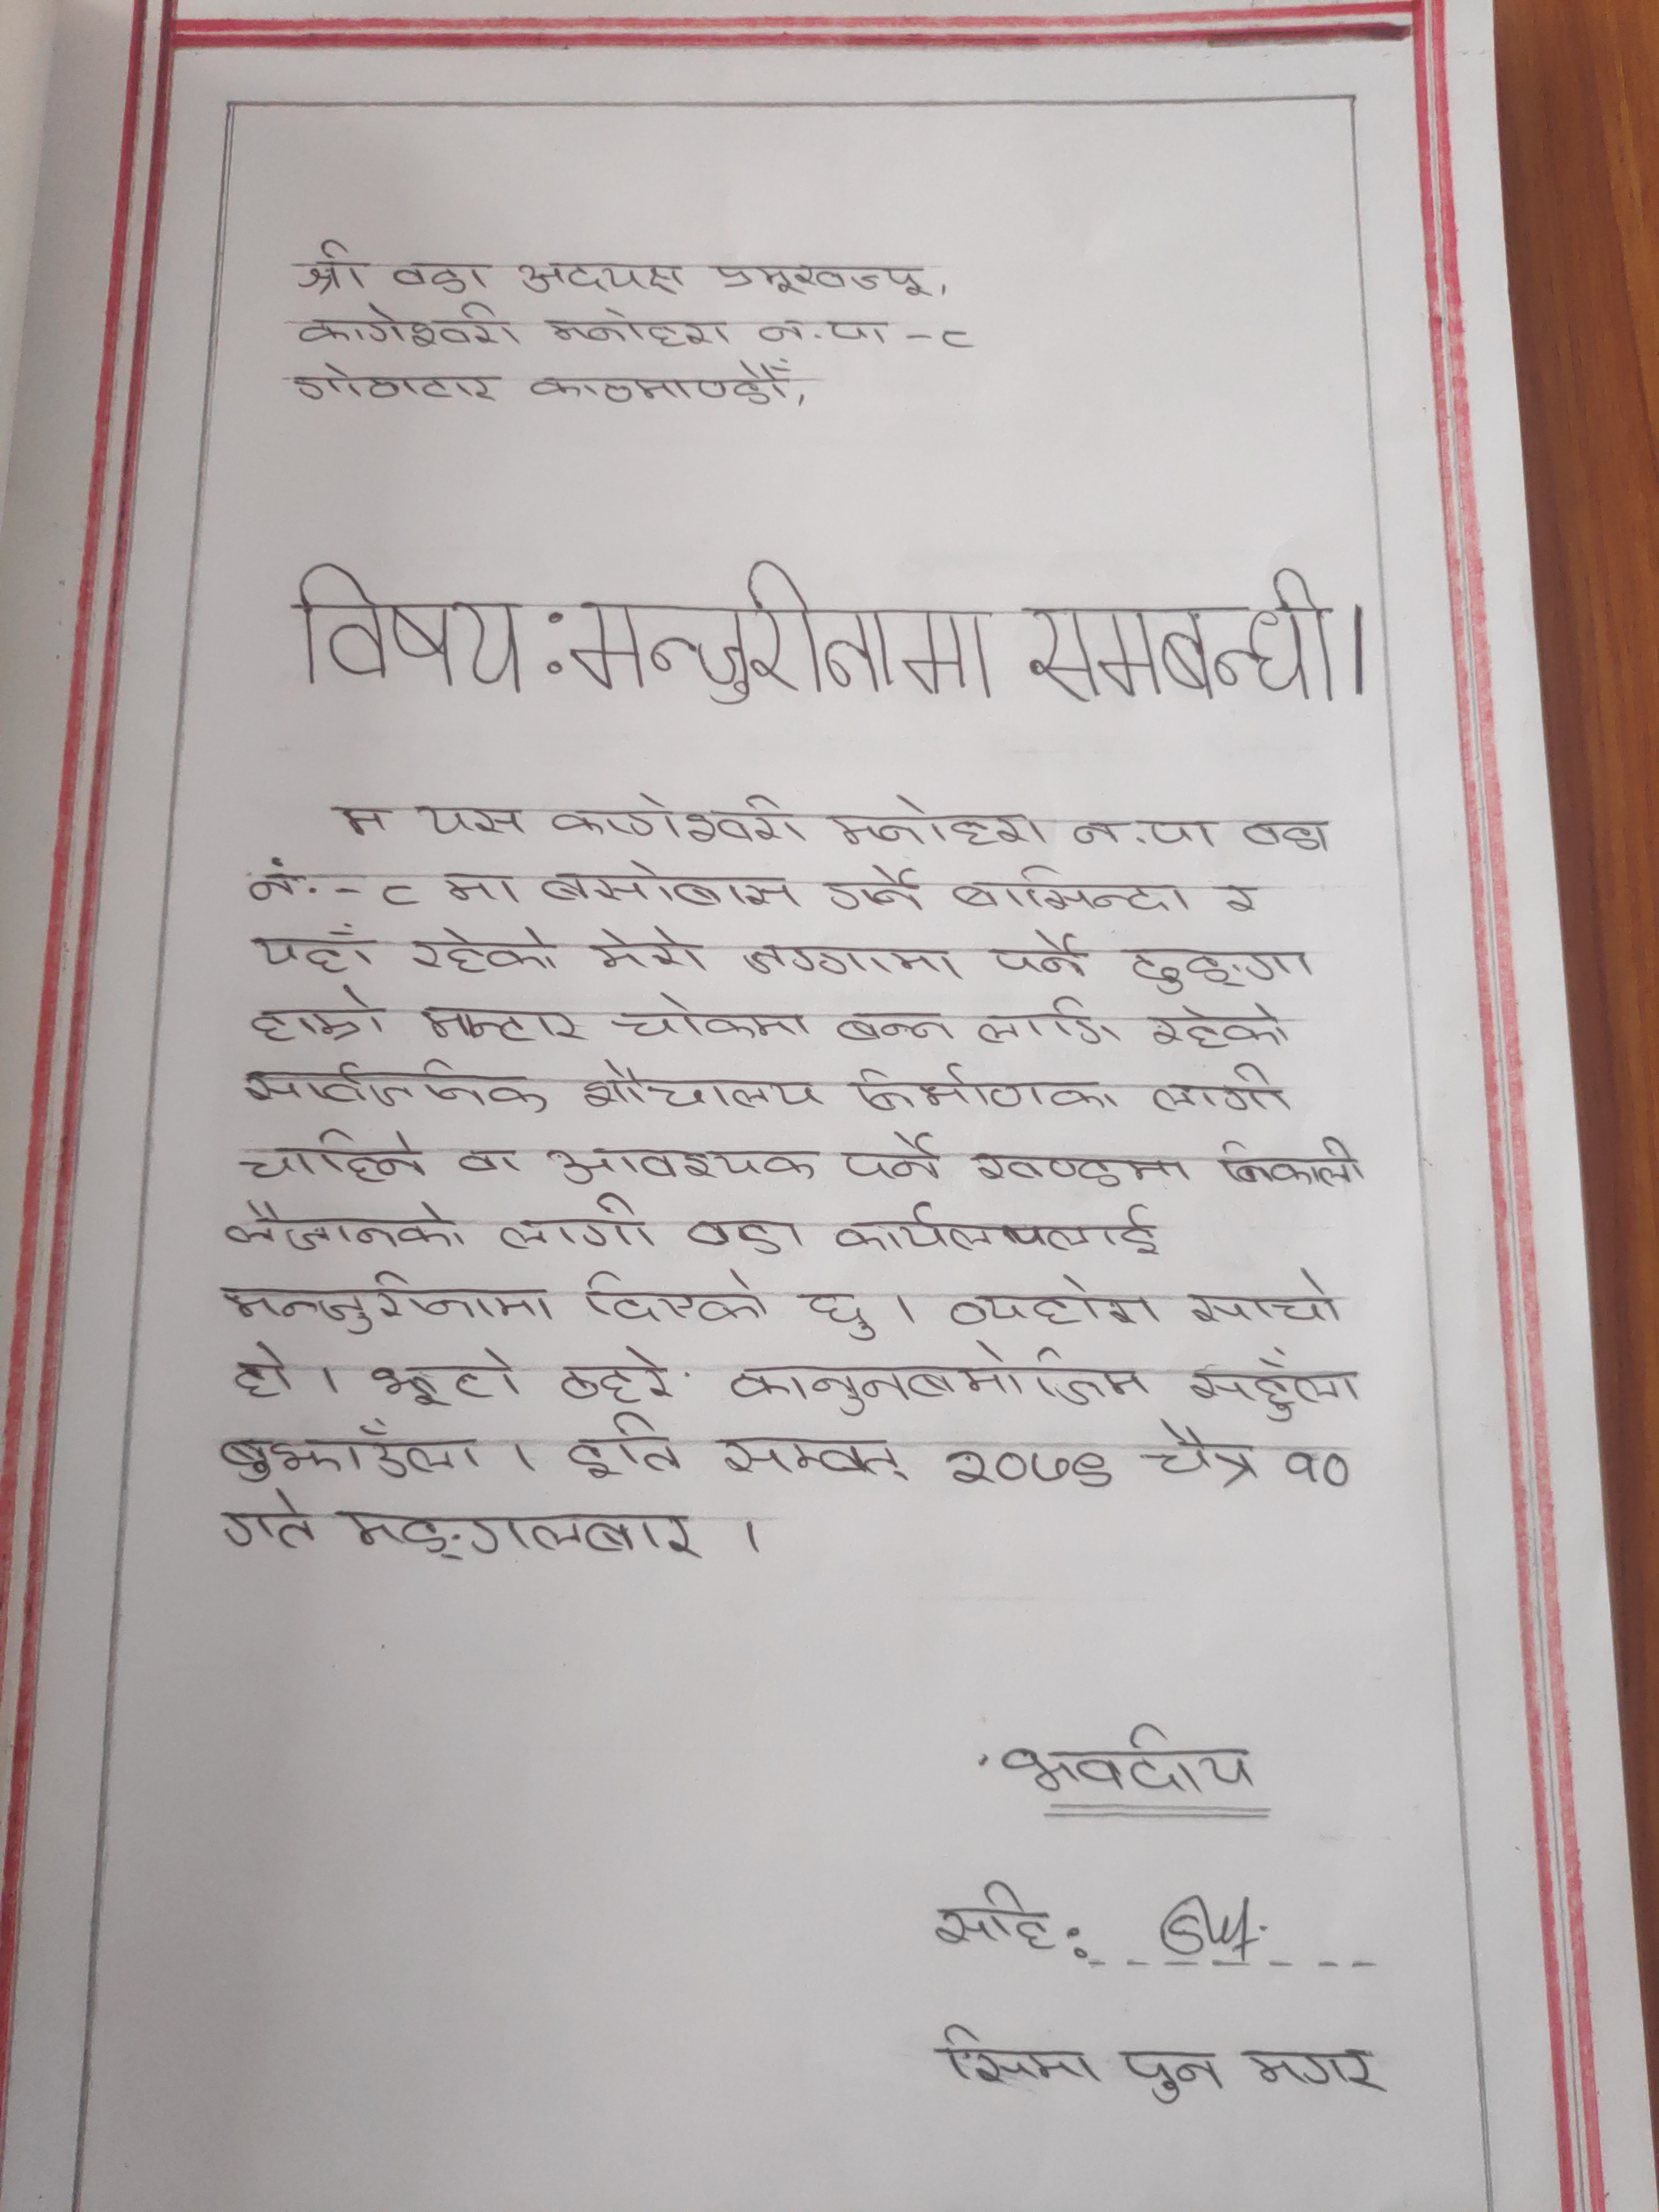text: (572, 559, 999, 700), (1019, 564, 1335, 702), (293, 561, 526, 697), (727, 1350, 1154, 1418), (206, 1270, 559, 1339), (343, 1501, 701, 1566), (1000, 1721, 1260, 1797), (234, 1059, 549, 1120), (826, 1204, 1171, 1258), (213, 1421, 486, 1484), (220, 1191, 465, 1256), (568, 1059, 831, 1116), (538, 1139, 830, 1190), (845, 1061, 1127, 1111), (579, 1259, 775, 1331), (1180, 1346, 1370, 1420), (951, 1271, 1166, 1336), (535, 857, 800, 907), (525, 359, 796, 408), (950, 862, 1197, 914), (232, 1125, 429, 1190), (549, 794, 807, 843), (713, 1430, 910, 1491), (936, 2019, 1100, 2092), (824, 794, 1040, 848), (1178, 1268, 1351, 1334), (965, 1146, 1197, 1195), (284, 357, 500, 409), (291, 303, 518, 352), (1117, 941, 1335, 991), (361, 1345, 526, 1411), (606, 991, 819, 1042), (739, 932, 965, 979), (537, 305, 739, 355), (493, 1195, 659, 1256), (932, 1878, 1054, 1959), (244, 982, 389, 1049), (1204, 1130, 1368, 1188), (561, 1414, 688, 1487), (406, 914, 554, 975), (945, 1442, 1121, 1493), (709, 260, 931, 300), (1136, 1421, 1262, 1491), (967, 995, 1121, 1050), (1148, 1066, 1302, 1122), (1148, 998, 1297, 1055), (410, 1003, 584, 1049), (516, 256, 695, 300), (1110, 2043, 1230, 2107), (559, 1343, 683, 1404), (1246, 2043, 1385, 2097), (213, 1493, 322, 1559), (584, 918, 706, 975), (1066, 808, 1220, 853), (254, 921, 382, 975), (821, 857, 932, 914), (830, 1000, 953, 1050), (985, 921, 1093, 979), (681, 1212, 809, 1258), (836, 1130, 943, 1183), (798, 1282, 880, 1346), (758, 314, 903, 348), (1234, 805, 1337, 853), (1274, 1440, 1366, 1494), (284, 242, 373, 294), (228, 1339, 296, 1407), (416, 799, 526, 840), (432, 859, 516, 909), (244, 846, 310, 907), (392, 258, 498, 294), (444, 1143, 526, 1183), (1211, 873, 1269, 923), (322, 796, 389, 840), (371, 880, 422, 918)
